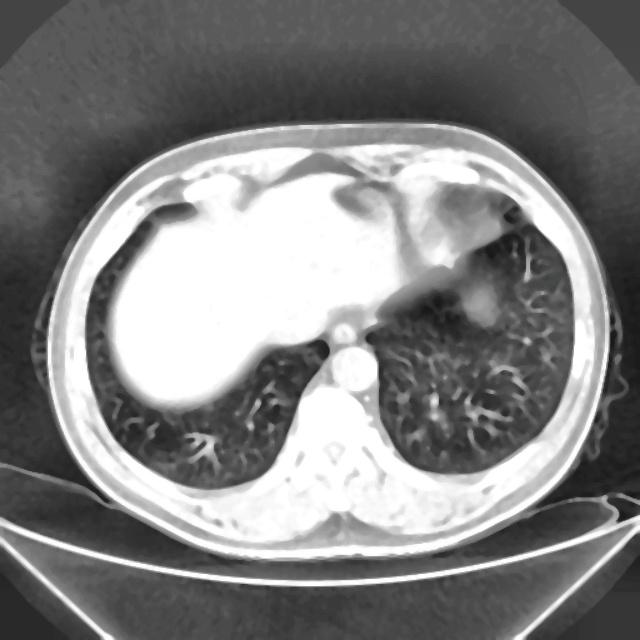covid: (37, 119, 624, 562)
